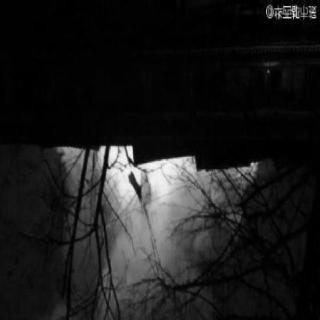Fire: (70, 136, 203, 243)
